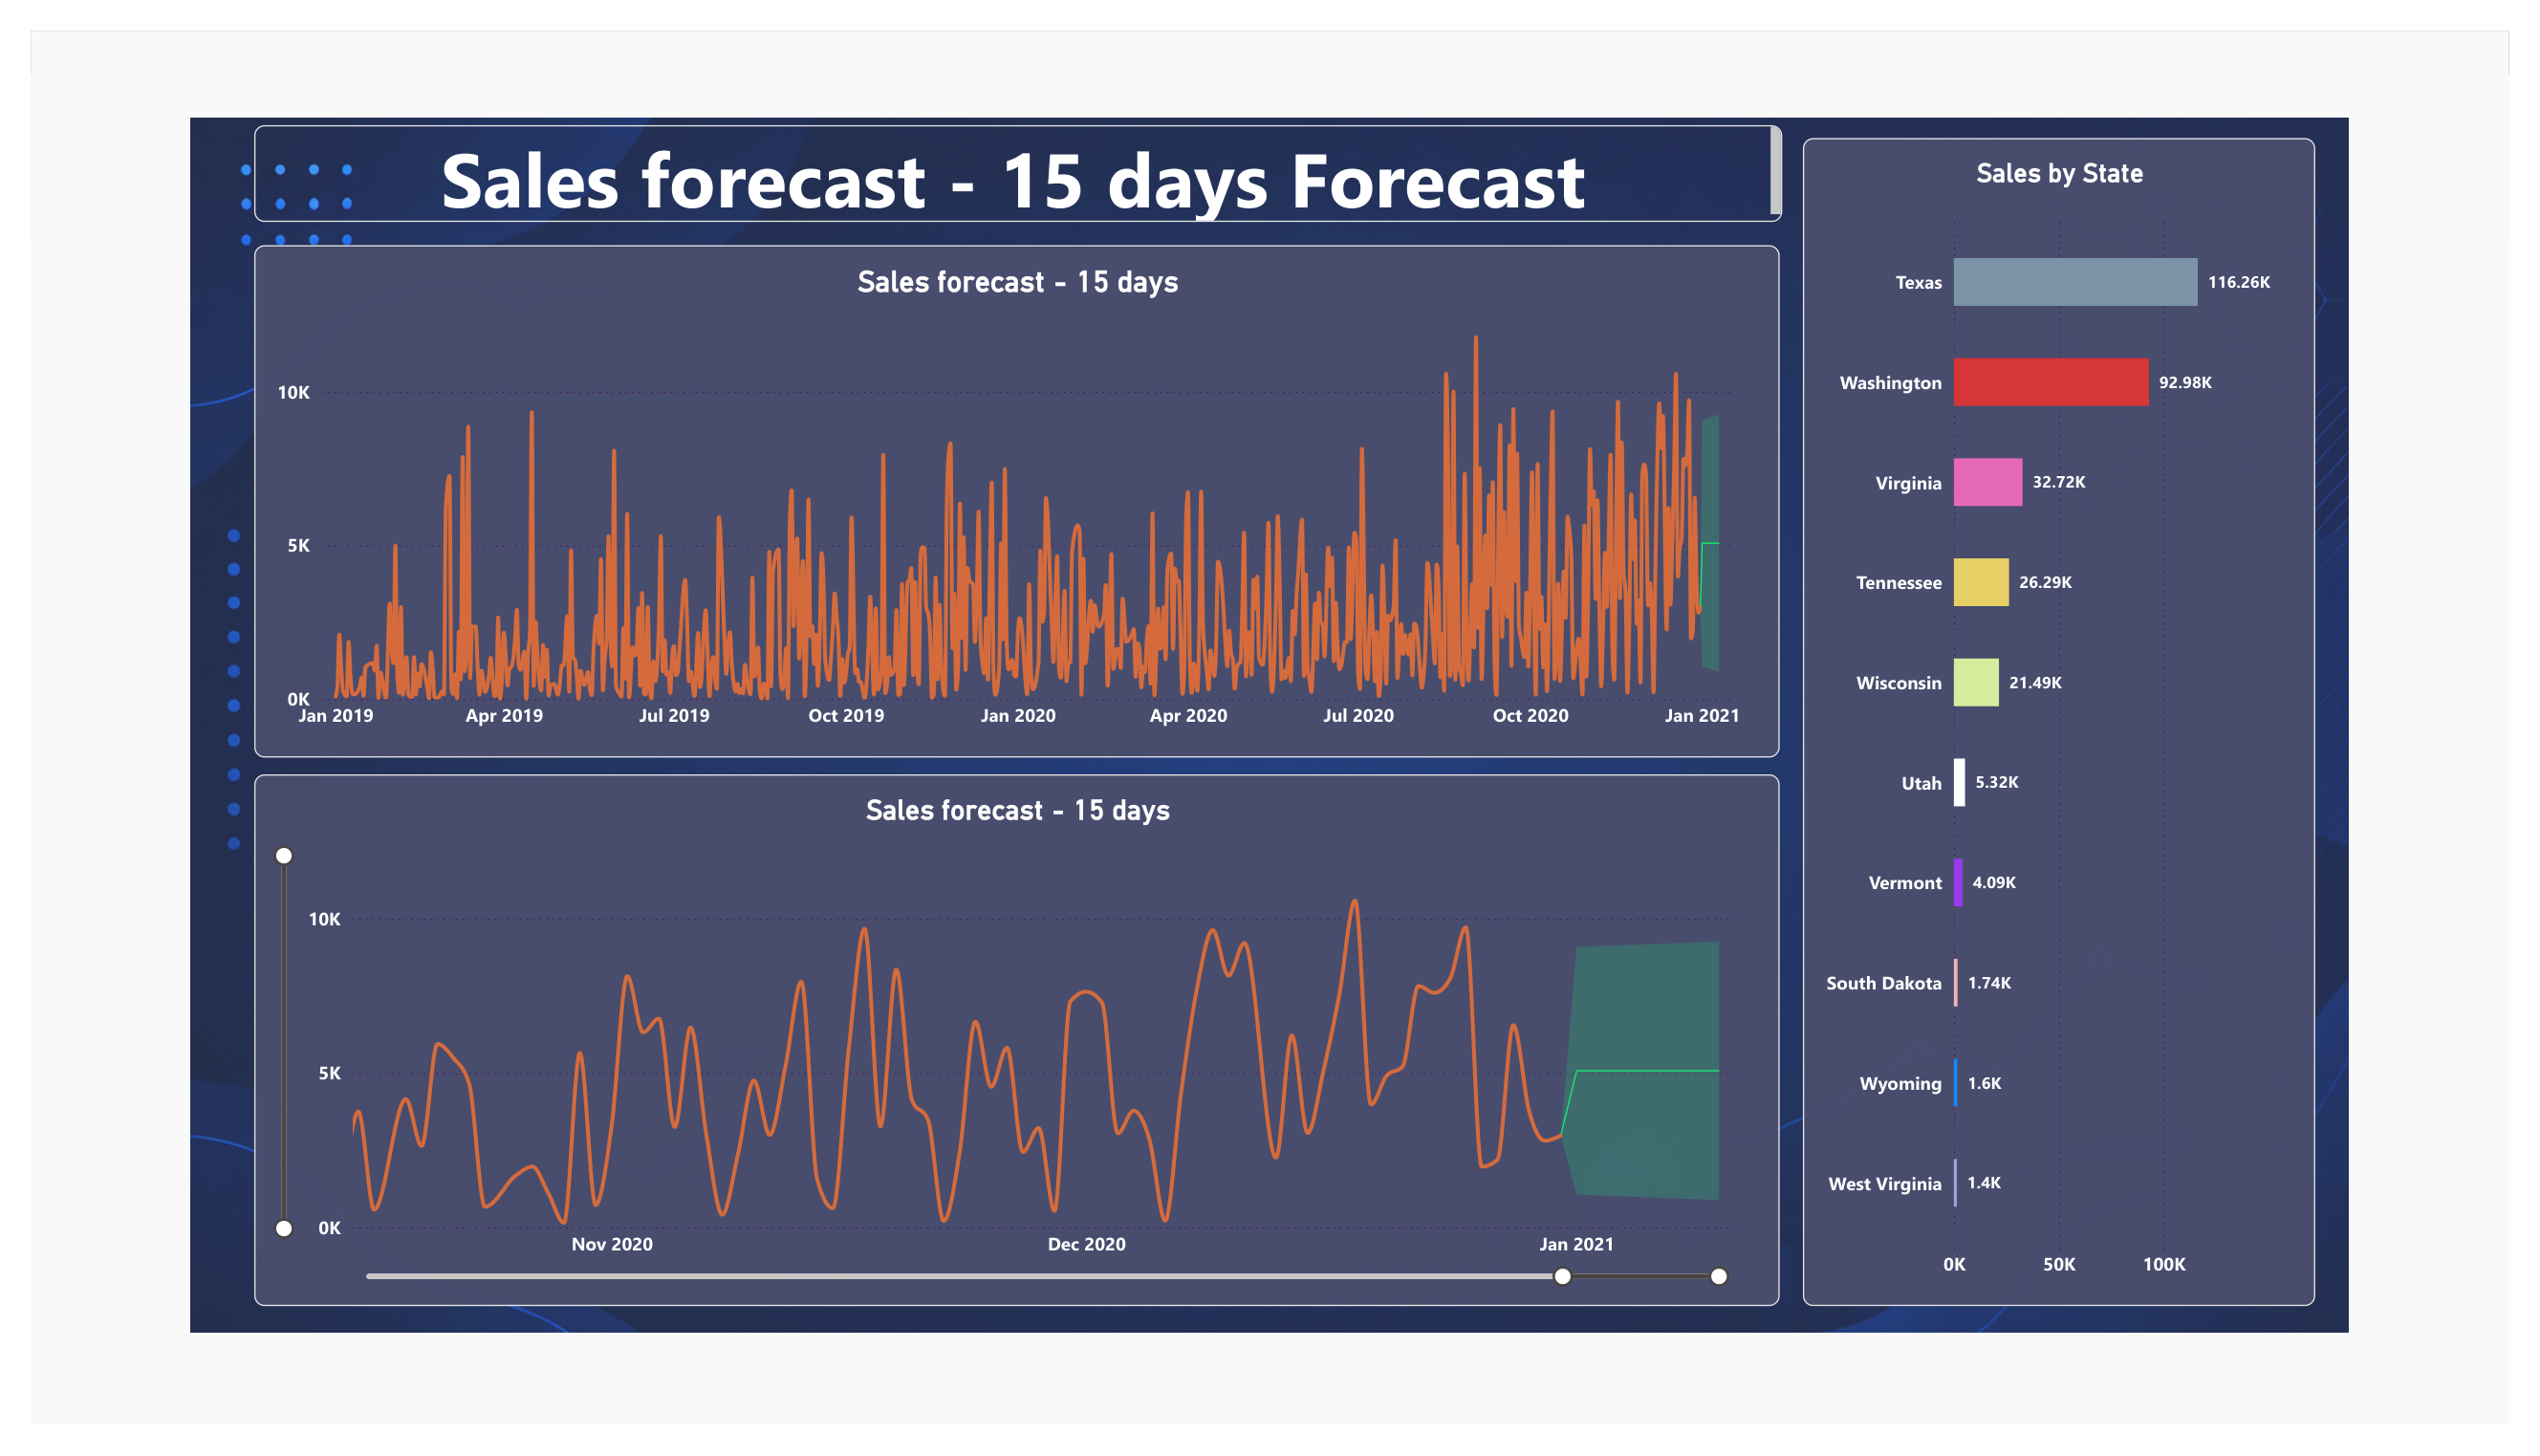

The page's visual inventory and layout, read from the dashboard file:
{"tool":"powerbi","page":{"name":"Page 2","canvas":[1920,1080],"ordinal":1},"visuals":[{"type":"lineChart","title":"Sales forecast - 15 days","fields":{"Category":["SuperStore_Sales_Dataset.Order Date"],"Y":["Sum(SuperStore_Sales_Dataset.Sales)"]},"box":[172.5,166.2,1182.5,396.2],"z":0},{"type":"lineChart","title":"Sales forecast - 15 days","fields":{"Category":["SuperStore_Sales_Dataset.Order Date"],"Y":["Sum(SuperStore_Sales_Dataset.Sales)"]},"box":[172.5,576.2,1182.5,411.2],"z":1000},{"type":"clusteredBarChart","fields":{"Category":["SuperStore_Sales_Dataset.State"],"Y":["Sum(SuperStore_Sales_Dataset.Sales)"]},"box":[1373.3,83.3,396.7,905],"z":2000},{"type":"textbox","box":[173.3,73.3,1183.3,75],"z":2001}]}

Visuals, with their boxes in screenshot pixels (x1, y1, x2, y2), scaled from the page's 1920x1080 canvas onto the 2540x1456 screenshot:
"Sales forecast - 15 days" lineChart: 228/224/1792/758
"Sales forecast - 15 days" lineChart: 228/777/1792/1331
clusteredBarChart - SuperStore_Sales_Dataset.State x Sum(SuperStore_Sales_Dataset.Sales): 1816/112/2341/1333
textbox: 229/98/1794/200
